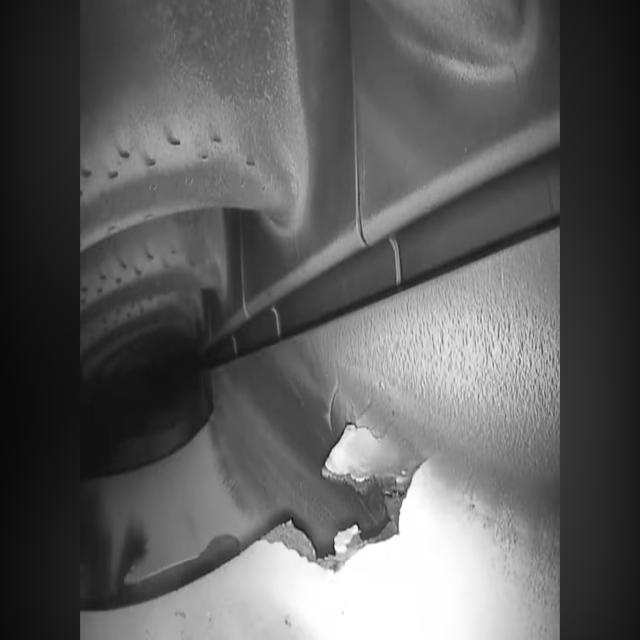crack: (254, 464, 401, 572)
turbine_blade: (80, 0, 293, 251), (77, 214, 221, 324)
